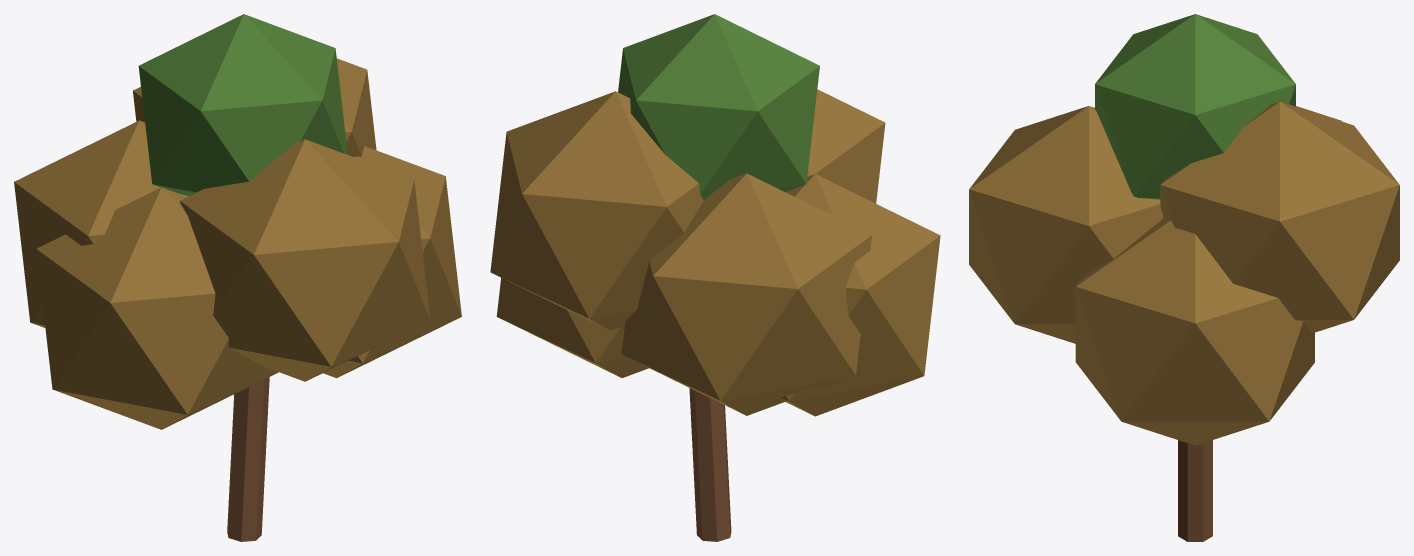
The model's file is tree_24.glb.
The picture shows the model from 3 angles, left to right: view 1: azimuth 30°, elevation 25°; view 2: azimuth 150°, elevation 25°; view 3: azimuth 270°, elevation 25°; orthographic projection.
Visible parts, largest first — view 1: tree_24; view 2: tree_24; view 3: tree_24.
Boxes of the visible parts, x1,y1,x2,y2 form: tree_24: (14, 14, 461, 541); tree_24: (490, 14, 940, 541); tree_24: (969, 14, 1399, 541).
Bounding box in the file's own units: 1.81 × 2.25 × 1.68.
